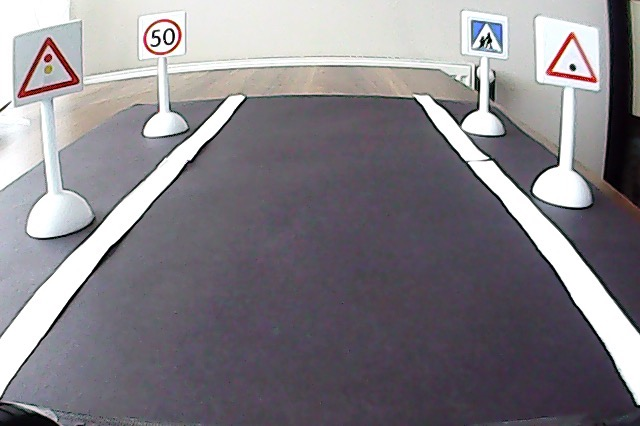green light: (541, 27, 600, 87)
red light: (12, 34, 83, 100)
school crossing: (465, 14, 507, 56)
speed limit 50: (139, 15, 186, 58)
